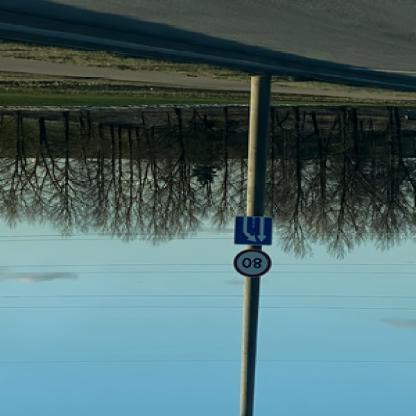speedlimit: (236, 250, 274, 278)
